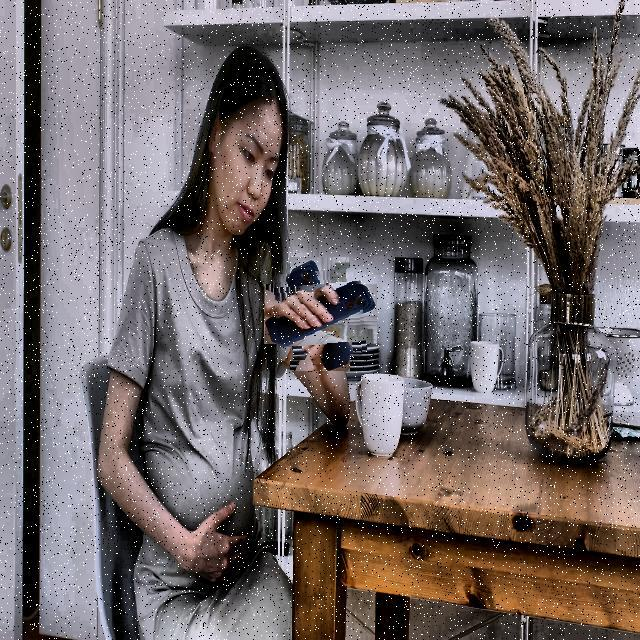Phone: (274, 269, 366, 360)
